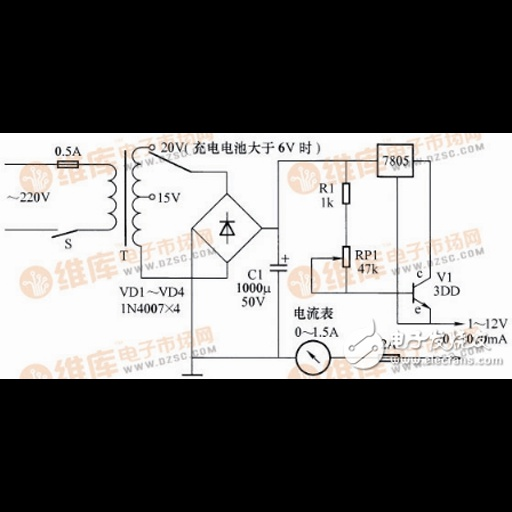firstpolarcapacitor: (266, 253, 293, 278)
firstresistance: (339, 178, 355, 212)
fuse: (51, 159, 81, 170)
npn: (403, 275, 433, 312)
transformer: (103, 147, 145, 248)
